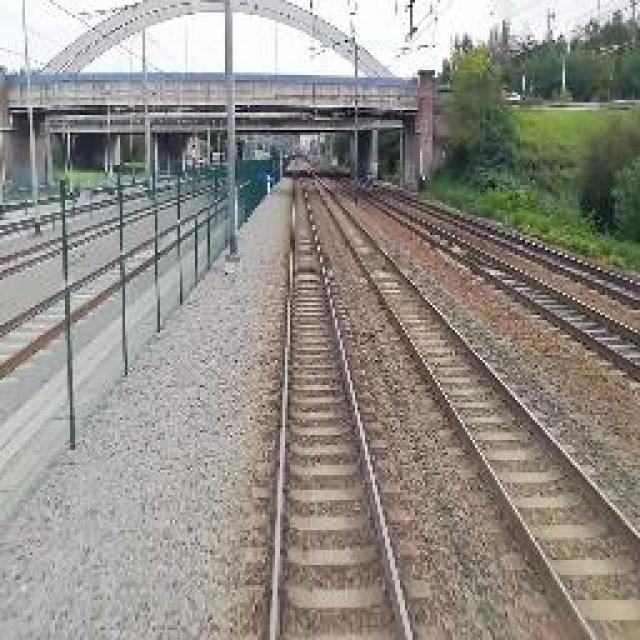rail: (247, 161, 446, 640)
